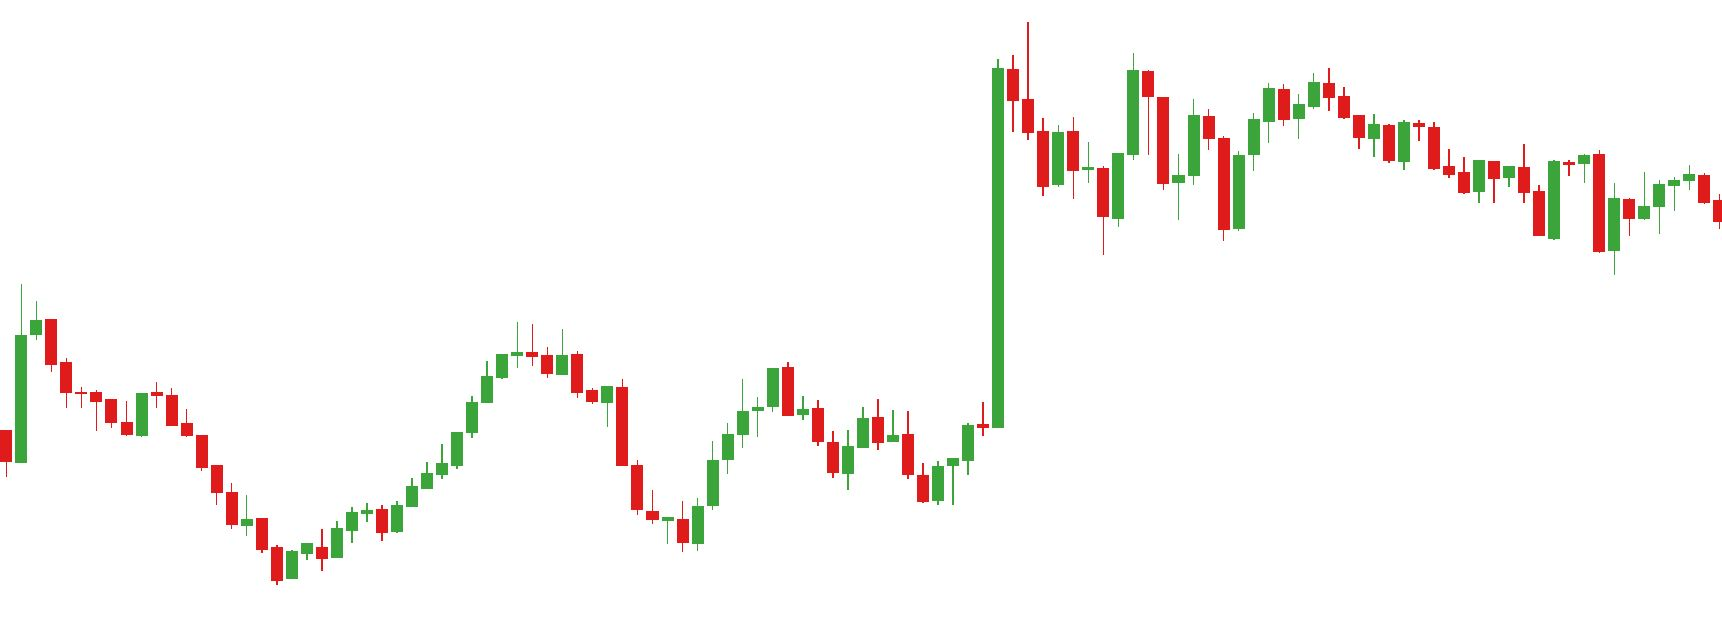buy: (824, 422, 947, 513), (1531, 182, 1624, 279)
